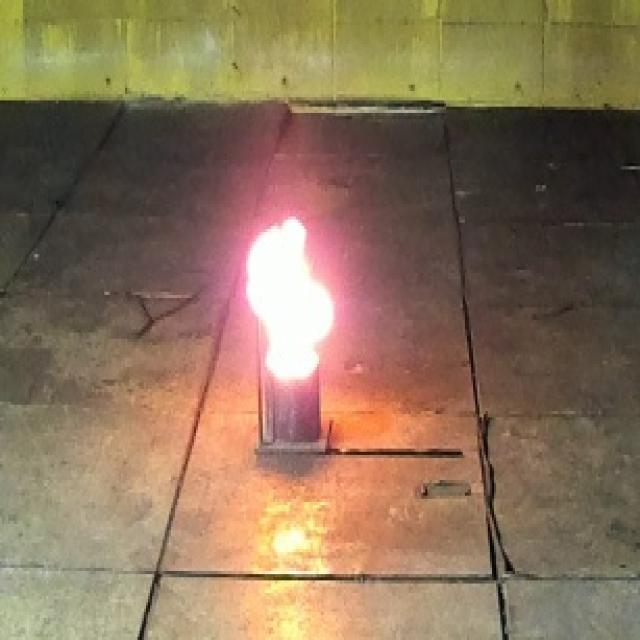Fire: (244, 214, 334, 383)
